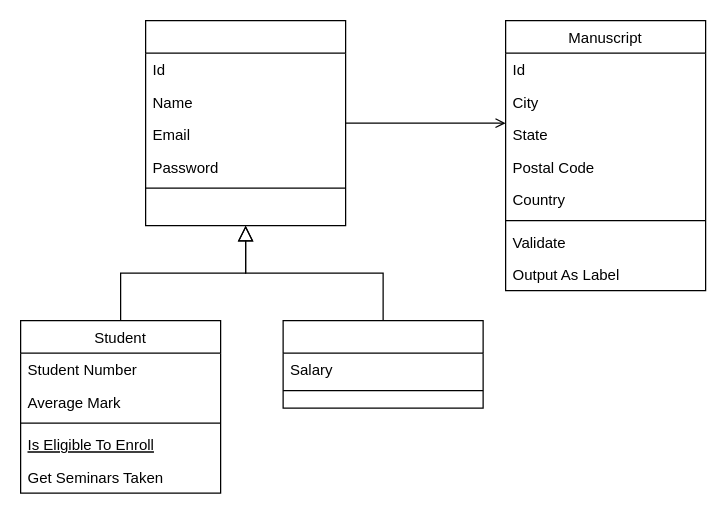
This 726x514 diagram has some shape labels left out. The box of each missing label's shape, as (x1, y1, x2, y2) in pixels:
Professor: (282, 319, 483, 408)
Users: (144, 19, 346, 226)
